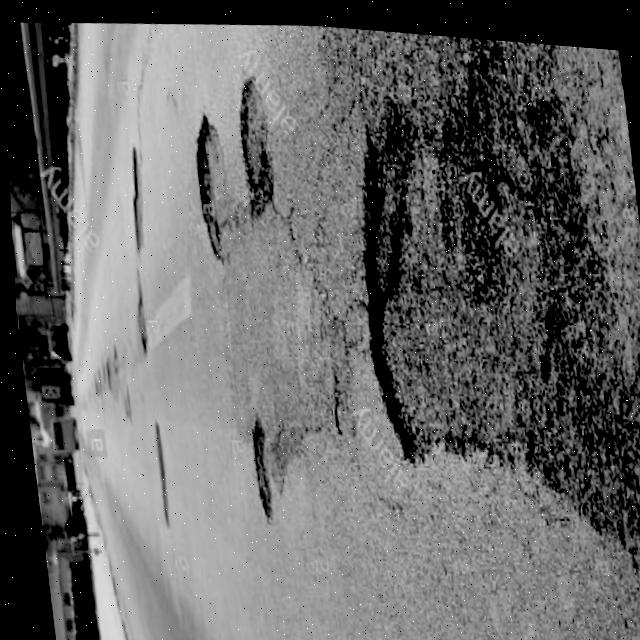Pothole: (325, 21, 631, 484), (223, 66, 279, 221), (183, 107, 232, 266), (118, 142, 149, 265), (241, 413, 269, 521), (141, 417, 165, 531), (124, 274, 148, 361), (102, 345, 117, 377)
